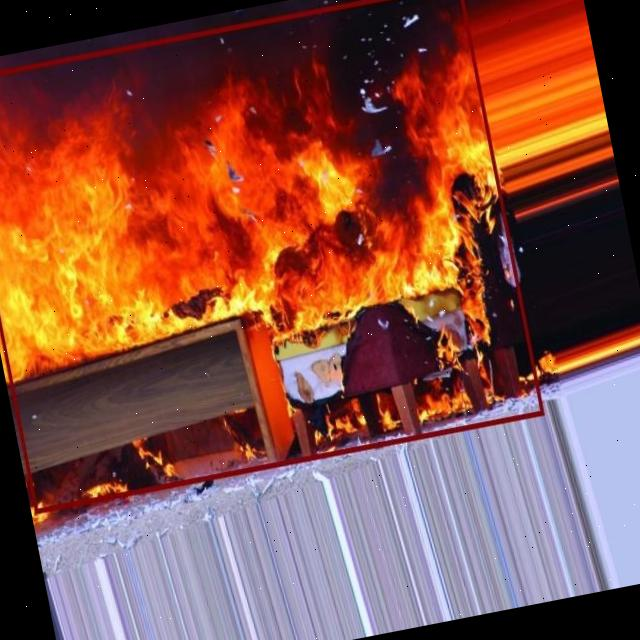fire: (0, 0, 544, 513)
